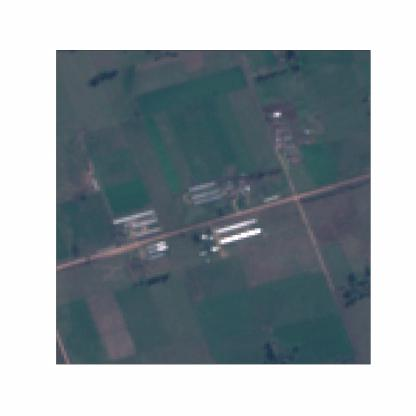silobolsa: (216, 227, 263, 246), (212, 218, 258, 236), (112, 210, 155, 226), (190, 187, 222, 202), (128, 217, 160, 231), (187, 181, 215, 196), (195, 192, 223, 207), (138, 225, 164, 239)
